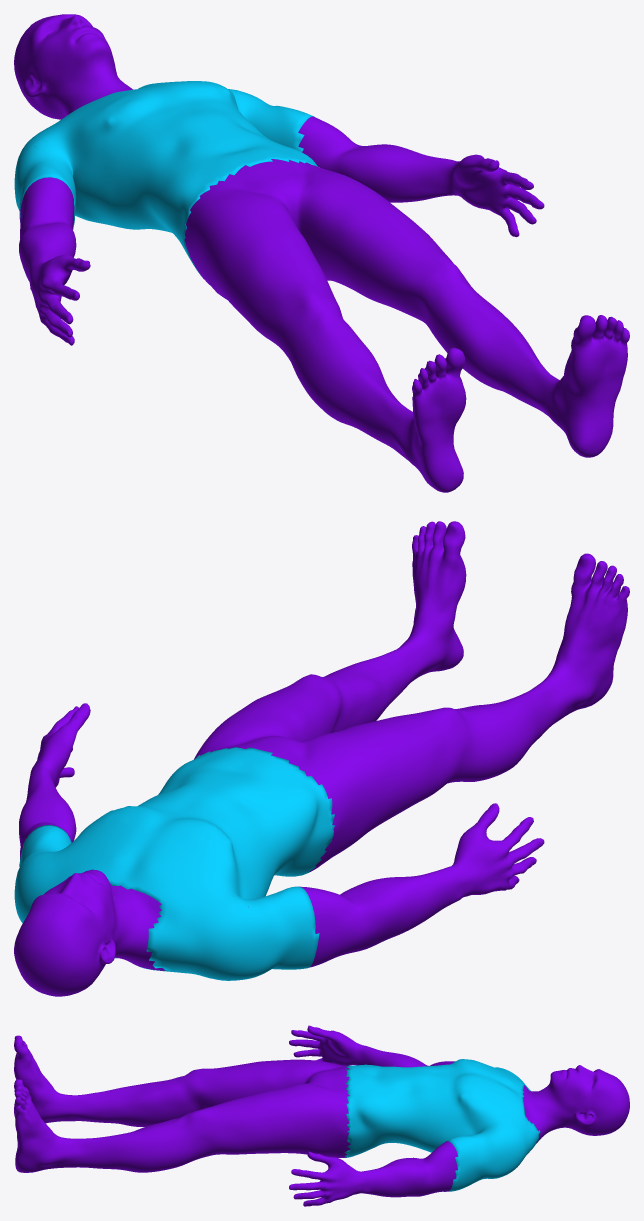
The model's file is De_RianV0.1.fbx.
The picture shows the model from 3 angles, top to bottom: view 1: azimuth 30°, elevation 25°; view 2: azimuth 150°, elevation 25°; view 3: azimuth 270°, elevation 25°; orthographic projection. The views are drawn at different scales.
Parts seen in each view (by area): view 1: De rian V0.2, De rian V0.001; view 2: De rian V0.2, De rian V0.001; view 3: De rian V0.2, De rian V0.001.
Boxes of the visible parts, bbox=[...] form: De rian V0.2: bbox=[14, 14, 629, 492]; De rian V0.001: bbox=[14, 81, 319, 278]; De rian V0.2: bbox=[14, 521, 629, 996]; De rian V0.001: bbox=[14, 747, 334, 980]; De rian V0.2: bbox=[14, 1025, 629, 1206]; De rian V0.001: bbox=[344, 1059, 540, 1191].
Bounding box in the file's own units: 74.58 × 22.04 × 132.
